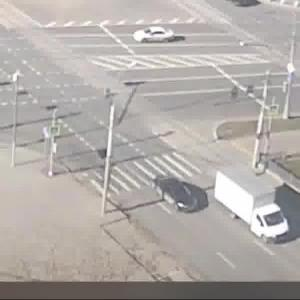car: (214, 167, 291, 249), (153, 179, 205, 220), (133, 27, 181, 45)
